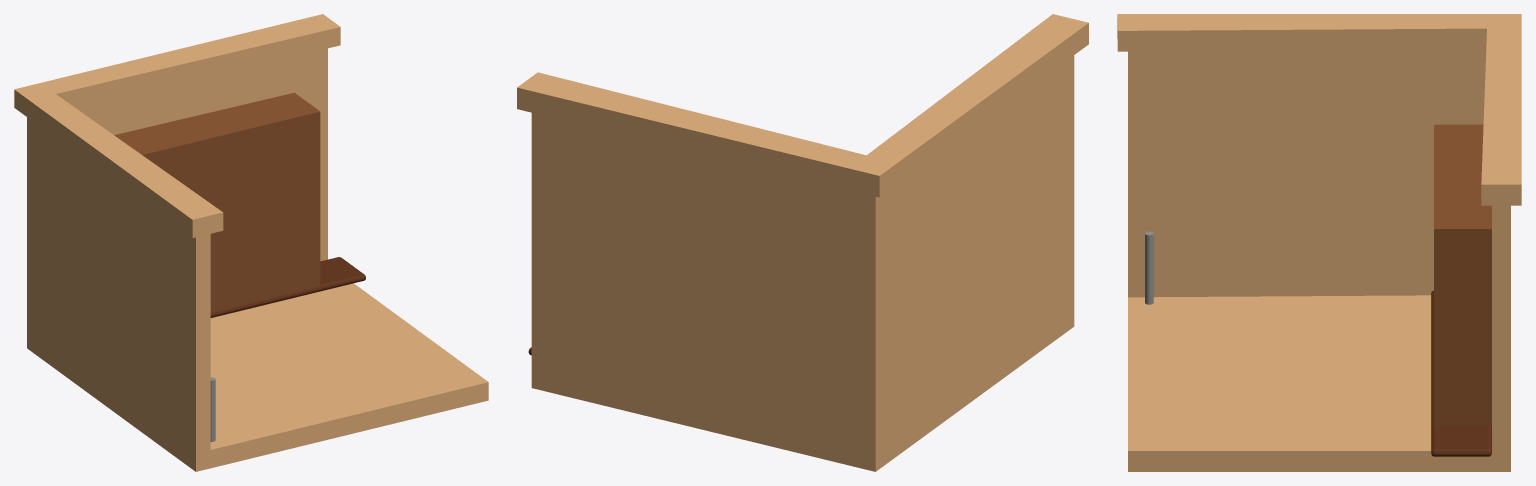
File: diorama.gltf
The picture shows the model from 3 angles, left to right: view 1: azimuth 30°, elevation 25°; view 2: azimuth 150°, elevation 25°; view 3: azimuth 270°, elevation 25°; orthographic projection. The views are drawn at different scales.
Parts seen in each view (by area): view 1: Walls, Wardrobe, Floor; view 2: Walls; view 3: Walls, Wardrobe, Floor, Table.
Part boxes in pixels (x1=…): Walls: x1=14, y1=14, x2=488, y2=471; Wardrobe: x1=114, y1=92, x2=320, y2=311; Floor: x1=210, y1=257, x2=365, y2=317; Walls: x1=517, y1=14, x2=1088, y2=471; Walls: x1=1117, y1=14, x2=1521, y2=471; Wardrobe: x1=1434, y1=124, x2=1491, y2=425; Floor: x1=1431, y1=290, x2=1491, y2=456; Table: x1=1145, y1=231, x2=1153, y2=304.
Size of the model in its own units: 5.35 by 4.2 by 5.27.
